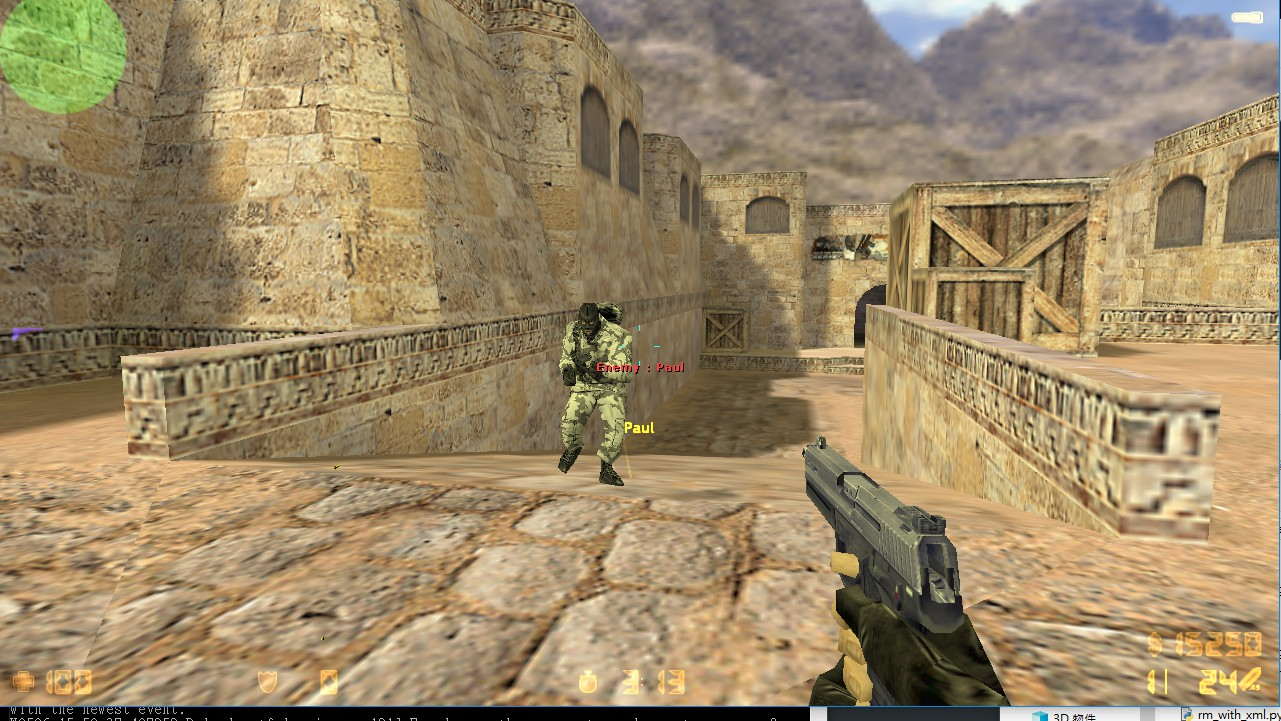person: (552, 294, 637, 488)
